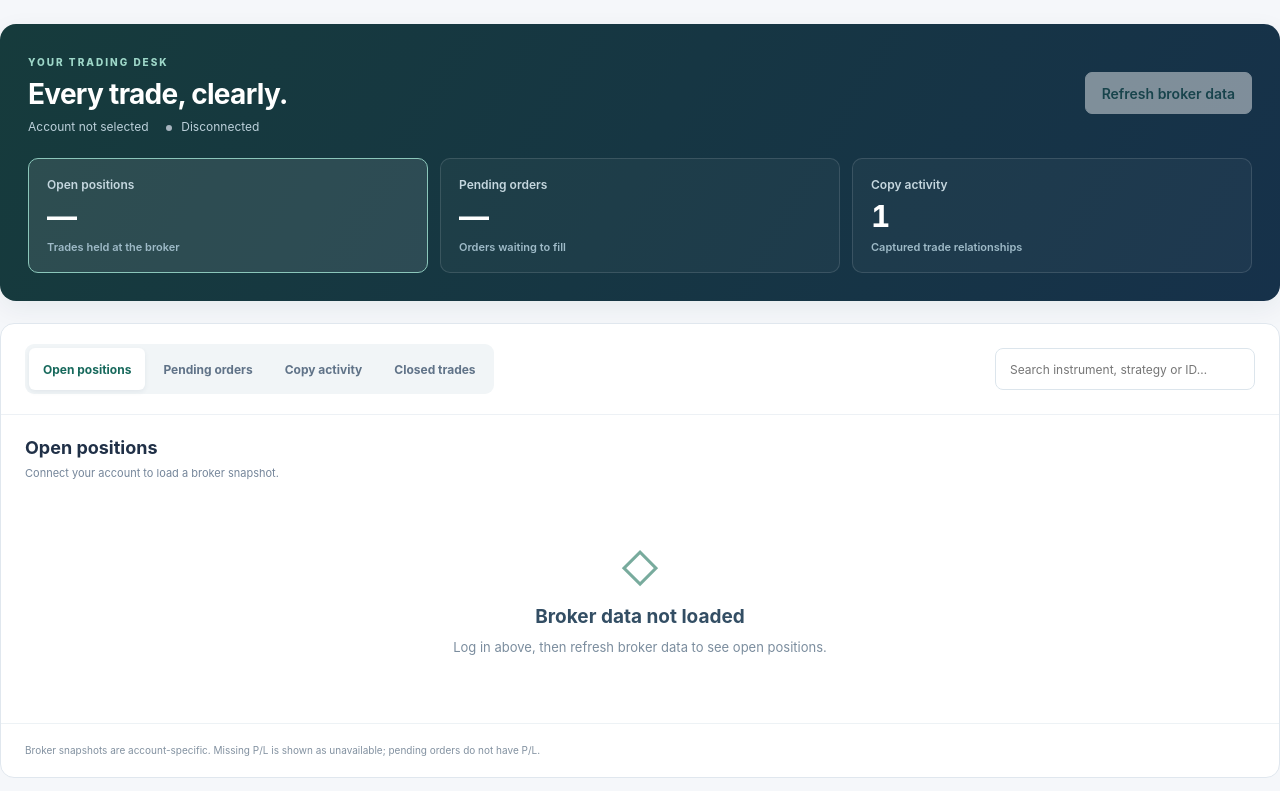
Scenario: copy activity leads with human labels and keeps the complete reference in collapsed details
What coordinates should you click on to do the following:
click the button "Copy activity"
I would click on:
 (324, 369)
Its box is [271,348,376,390].
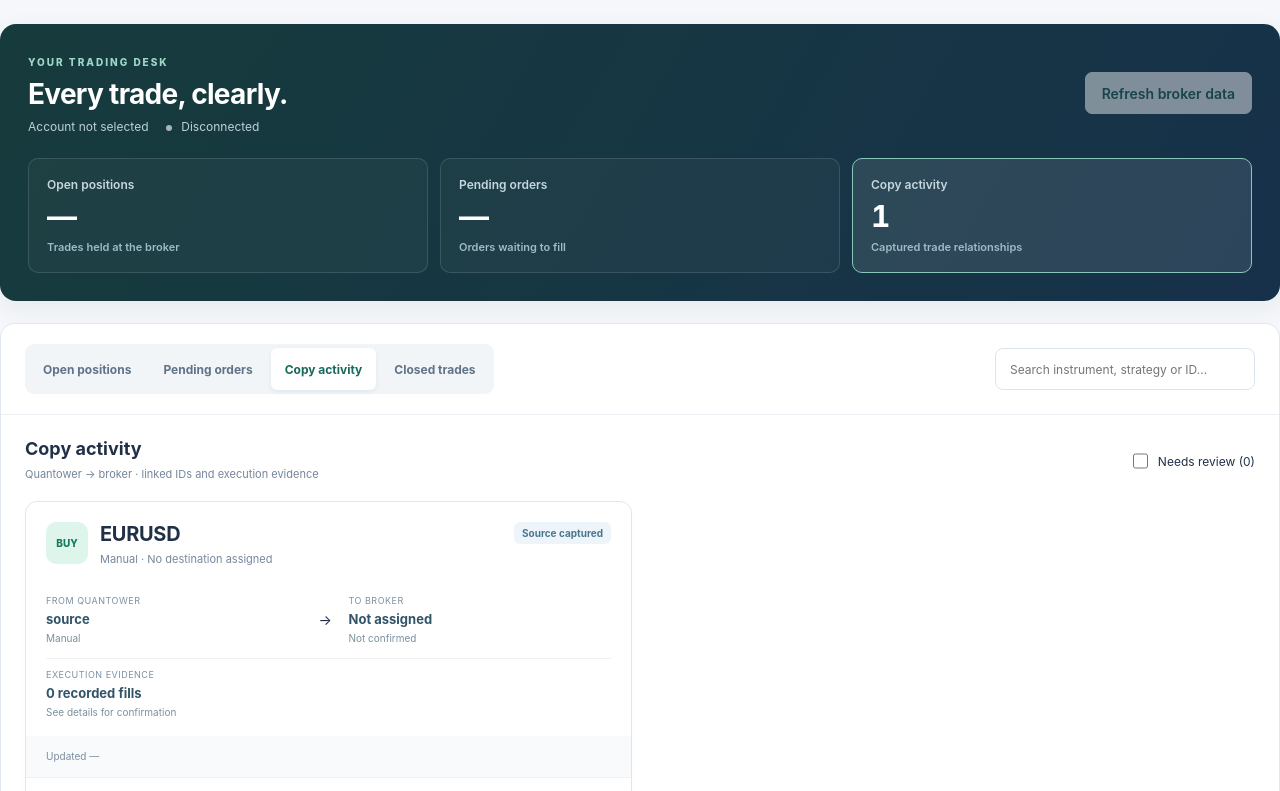
Now the heading "EURUSD" is shown, box [100,522,180,546]
Now the element with class "order-card-heading" shows "Source captured", box [522,527,603,539]
Now the element with class "order-route" shows "Not assigned", box [348,611,432,627]
